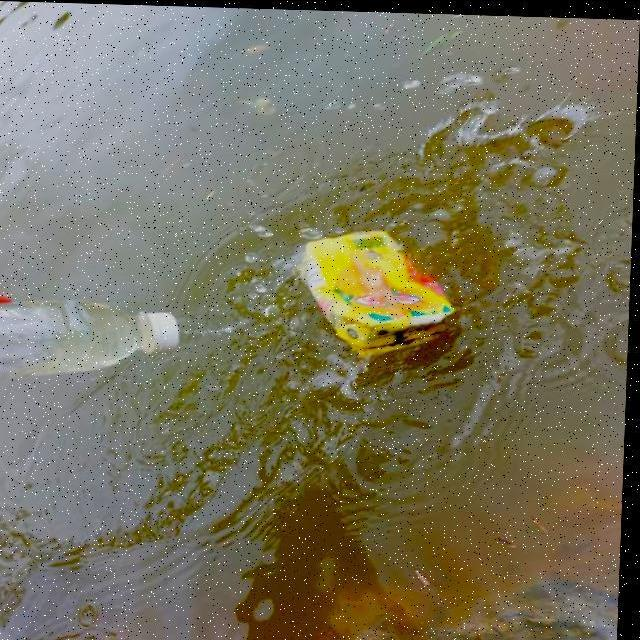Bottle: (0, 294, 184, 381)
Box: (282, 220, 464, 374)
